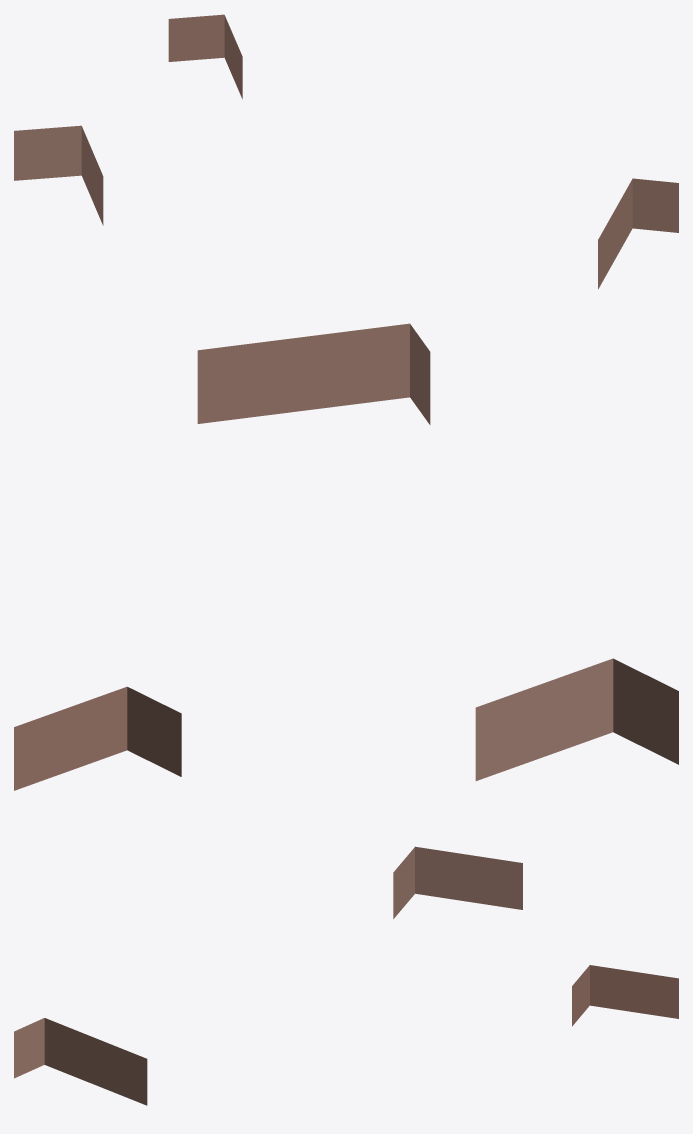
Rendered from c_1630_17830_buildings_residential.glb.
3 renders of one model, top to bottom at view 1: azimuth 30°, elevation 25°; view 2: azimuth 150°, elevation 25°; view 3: azimuth 270°, elevation 25°, orthographic. The views are drawn at different scales.
Visible parts, largest first — view 1: geometry_0; view 2: geometry_0; view 3: geometry_0.
Part boxes in pixels (x1,y1,x2,y2): geometry_0: (14, 14, 678, 289); geometry_0: (14, 323, 678, 790); geometry_0: (14, 846, 678, 1105).
Size of the model in its own units: 112 by 11.87 by 141.
